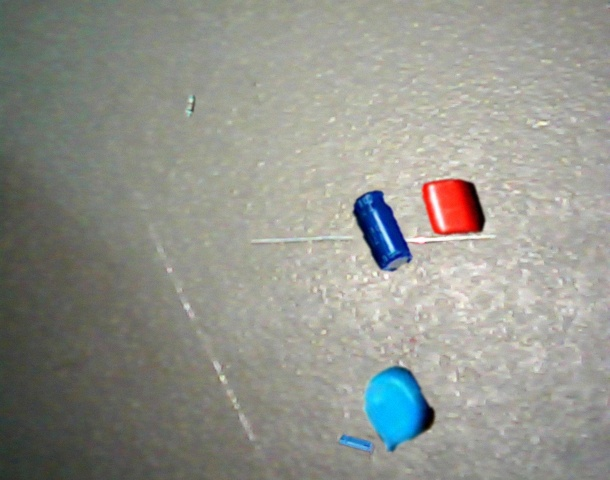capacitor: (363, 365, 436, 452), (353, 190, 413, 272), (422, 179, 486, 236), (339, 434, 374, 454)
resistor: (184, 94, 197, 117)
